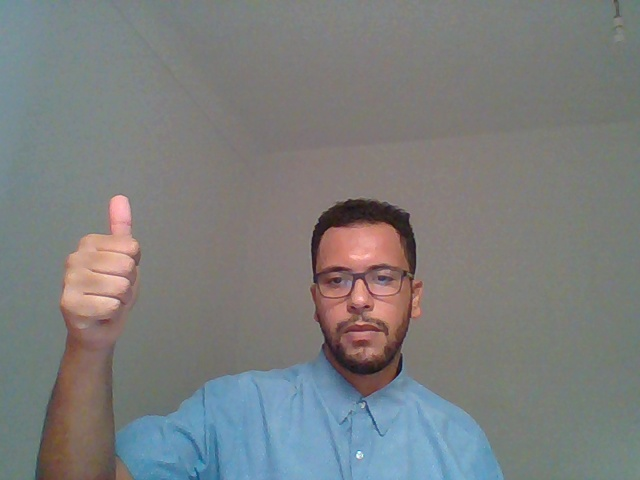ok: (40, 169, 158, 400)
